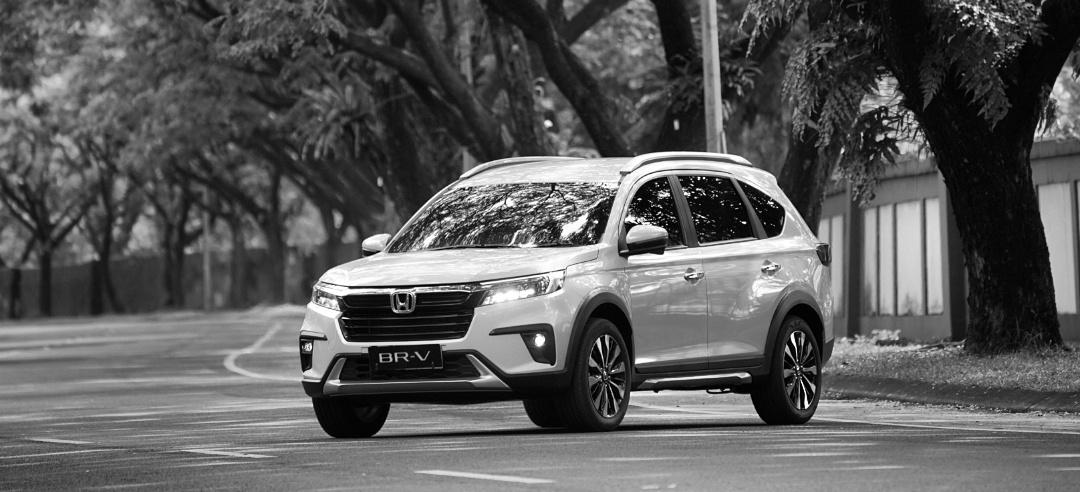Car hood: (314, 239, 599, 299)
Fender - -F-L-: (556, 229, 635, 361)
Fender - -R-L-: (758, 169, 827, 349)
Front bumper: (279, 287, 581, 393)
Headlight - -L-: (480, 266, 565, 317)
Headlight - -R-: (305, 278, 345, 312)
Passenger-s door - -F-L-: (603, 146, 714, 400)
Passenger-s door - -R-L-: (678, 139, 794, 401)
Rear bumper: (807, 296, 845, 375)
Rear light - -L-: (813, 240, 835, 276)
Side bumper - -L-: (623, 341, 771, 413)
Side mirror - -L-: (623, 222, 672, 266)
Side mirror - -R-: (354, 234, 392, 255)
